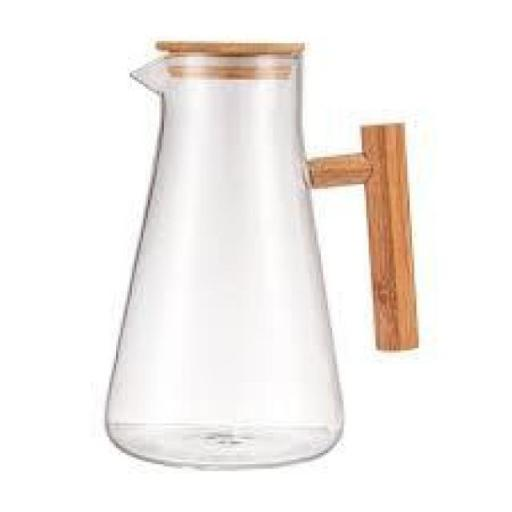glass: (94, 29, 370, 497)
